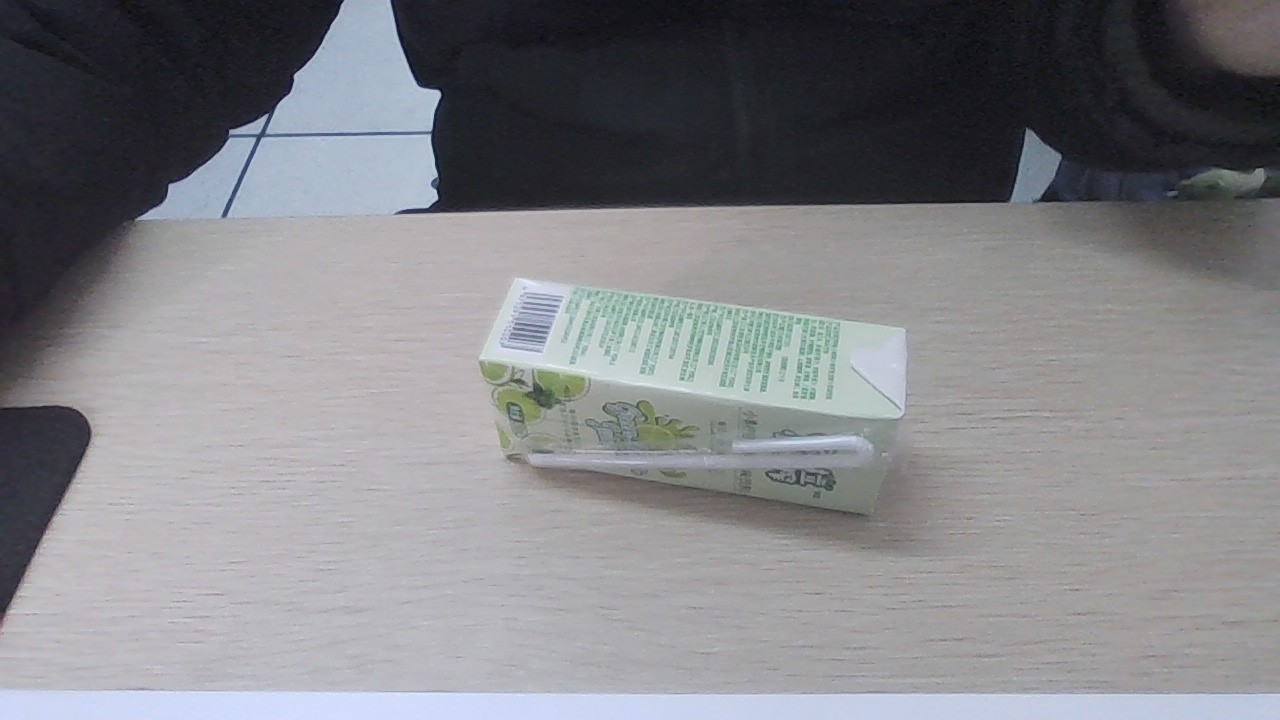CY-drink: (475, 277, 911, 524)
